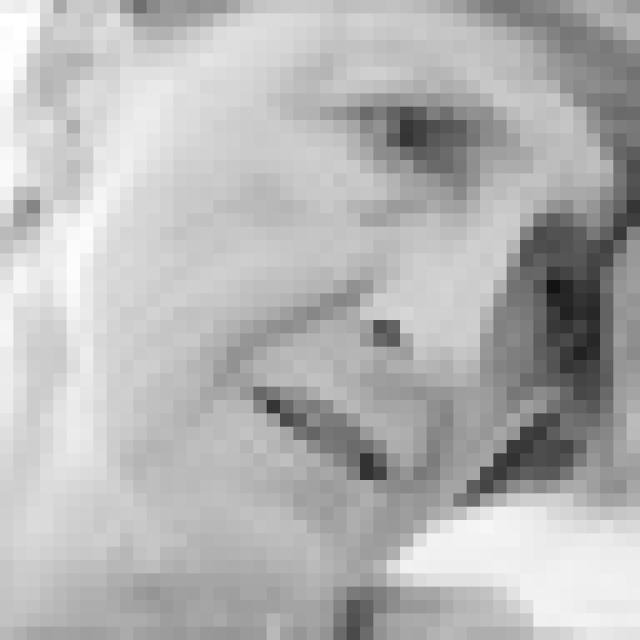sad: (175, 77, 596, 498)
